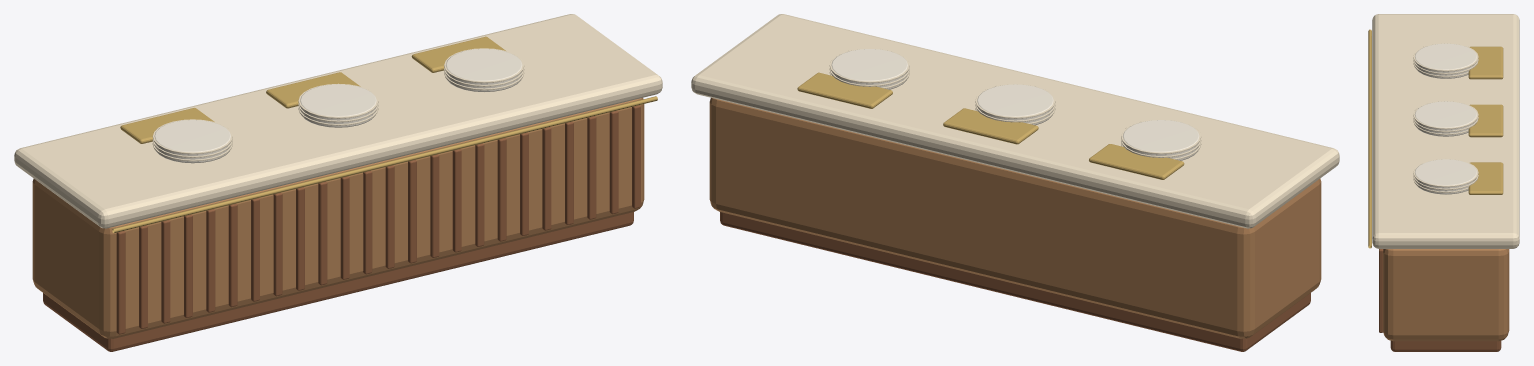
The model's file is service-counter.glb.
3 views of the same model, side by side, from view 1: azimuth 30°, elevation 25°; view 2: azimuth 150°, elevation 25°; view 3: azimuth 270°, elevation 25° (orthographic). The views are drawn at different scales.
Parts seen in each view (by area): view 1: service-counter / Ivory stone, service-counter / Oak, service-counter / Oak endgrain, service-counter / Warm linen, service-counter / Brass; view 2: service-counter / Oak, service-counter / Ivory stone, service-counter / Oak endgrain, service-counter / Warm linen, service-counter / Brass; view 3: service-counter / Ivory stone, service-counter / Oak, service-counter / Warm linen, service-counter / Brass, service-counter / Oak endgrain.
Boxes of the visible parts, x1,y1,x2,y2 form: service-counter / Ivory stone: (14, 14, 662, 228); service-counter / Oak: (32, 98, 644, 338); service-counter / Oak endgrain: (43, 105, 640, 351); service-counter / Warm linen: (154, 49, 522, 163); service-counter / Brass: (112, 36, 657, 233); service-counter / Oak: (709, 98, 1321, 338); service-counter / Ivory stone: (691, 14, 1339, 228); service-counter / Oak endgrain: (720, 212, 1310, 351); service-counter / Warm linen: (831, 49, 1199, 160); service-counter / Brass: (797, 72, 1184, 179); service-counter / Ivory stone: (1372, 14, 1519, 248); service-counter / Oak: (1383, 249, 1509, 341); service-counter / Warm linen: (1414, 43, 1477, 194); service-counter / Brass: (1368, 29, 1503, 248); service-counter / Oak endgrain: (1379, 249, 1501, 351).
Bounding box in the file's own units: 5.03 × 1.41 × 1.44.
